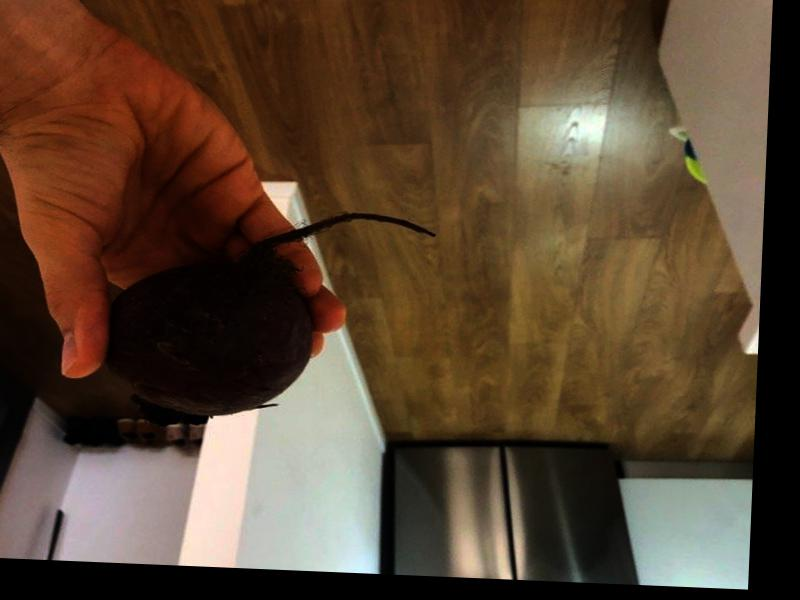Beet: (103, 202, 436, 434)
